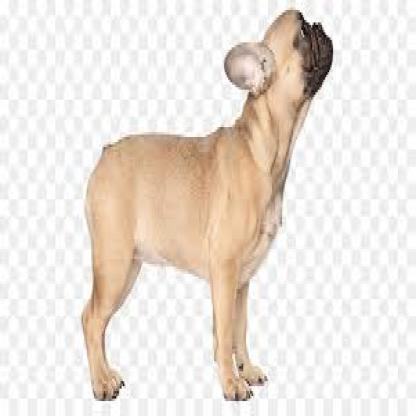French bulldog: (79, 6, 336, 406)
